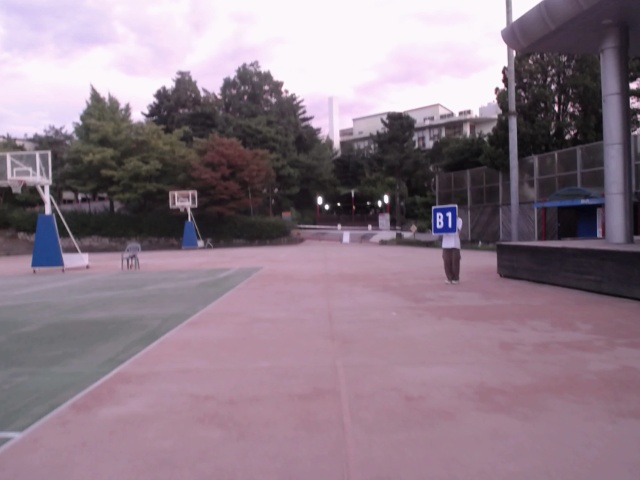delivery_b1: (431, 204, 457, 235)
